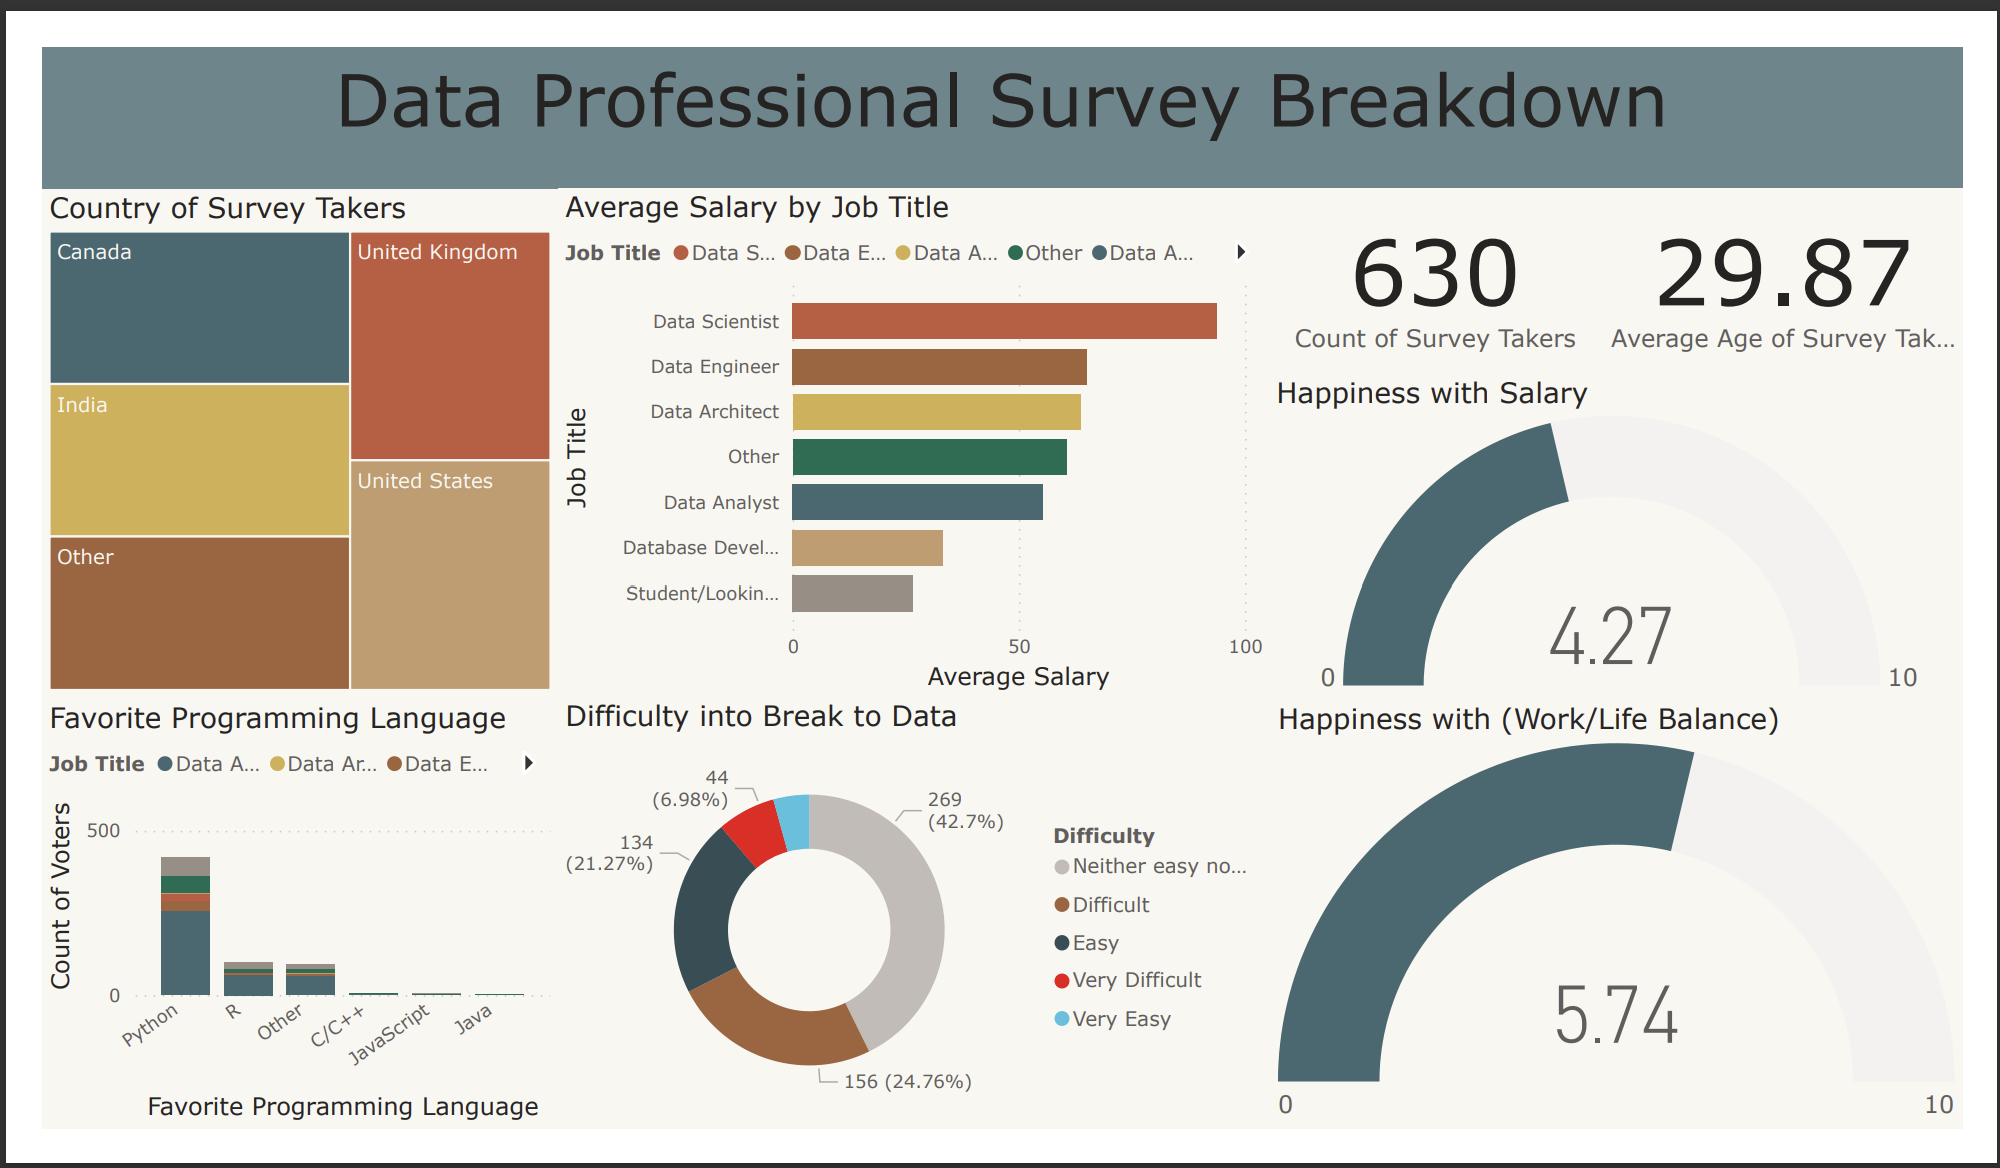

Layout of this report page (visuals, bound fields, positions):
{"tool":"powerbi","page":{"name":"Project Dasshboard","canvas":[1280,720],"ordinal":0},"visuals":[{"type":"textbox","box":[0,0,1280,93.8],"z":0},{"type":"card","fields":{"Values":["Count(Data Professional Survey.Unique ID)"]},"box":[817.9,94,222.6,123.8],"z":1000},{"type":"card","fields":{"Values":["Avg(Data Professional Survey.Q10 - Current Age)"]},"box":[1040.5,94,241.7,123.8],"z":2000},{"type":"barChart","title":"Average Salary by Job Title","fields":{"Category":["Data Professional Survey.Q1 - Which Title Best Fits your Current Role?.1"],"Y":["Avg(Data Professional Survey.Average Salary)"],"Series":["Data Professional Survey.Q1 - Which Title Best Fits your Current Role?.1"]},"box":[344,94,475,339.3],"z":3000},{"type":"columnChart","title":"Favorite Programming Language","fields":{"Category":["Data Professional Survey.Q5 - Favorite Programming Language.1"],"Y":["CountNonNull(Data Professional Survey.Unique ID)"],"Series":["Data Professional Survey.Q1 - Which Title Best Fits your Current Role?.1"]},"box":[0,433.8,343.8,286.2],"z":4000},{"type":"treemap","title":"Country of Survey Takers","fields":{"Group":["Data Professional Survey.Q11 - Which Country do you live in?.1"],"Values":["Count(Data Professional Survey.Q11 - Which Country do you live in?.1)"]},"box":[0,95.2,344,338.1],"z":5000},{"type":"gauge","title":"Happiness with Salary","fields":{"Y":["Avg(Data Professional Survey.Q6 - How Happy are you in your Current Position with the following? (Salary))"],"MinValue":["Min(Data Professional Survey.Q6 - How Happy are you in your Current Position with the following? (Salary))"],"MaxValue":["Max(Data Professional Survey.Q6 - How Happy are you in your Current Position with the following? (Salary))"]},"box":[817.9,217.9,466.7,216.7],"z":6000},{"type":"gauge","title":"Happiness with  (Work/Life Balance)","fields":{"Y":["Avg(Data Professional Survey.Q6 - How Happy are you in your Current Position with the following? (Work/Life Balance))"],"MinValue":["Min(Data Professional Survey.Q6 - How Happy are you in your Current Position with the following? (Work/Life Balance))1"],"MaxValue":["Max(Data Professional Survey.Q6 - How Happy are you in your Current Position with the following? (Work/Life Balance))2"]},"box":[819,434.5,460.7,289.3],"z":7000},{"type":"donutChart","title":"Difficulty into Break to Data","fields":{"Category":["Data Professional Survey.Q7 - How difficult was it for you to break into Data?"],"Y":["CountNonNull(Data Professional Survey.Q7 - How difficult was it for you to break into Data?)"]},"box":[344,433.3,475,286.9],"z":8000}]}

Visuals, with their boxes on the page's 1280x720 design canvas (x1, y1, x2, y2). These are canvas units, not pixel positions in the 2000x1168 screenshot, which may show the page scaled, cropped or inside an application window:
textbox: region(0, 0, 1280, 94)
card - Count(Data Professional Survey.Unique ID): region(818, 94, 1040, 218)
card - Avg(Data Professional Survey.Q10 - Current Age): region(1040, 94, 1282, 218)
"Average Salary by Job Title" barChart: region(344, 94, 819, 433)
"Favorite Programming Language" columnChart: region(0, 434, 344, 720)
"Country of Survey Takers" treemap: region(0, 95, 344, 433)
"Happiness with Salary" gauge: region(818, 218, 1285, 435)
"Happiness with  (Work/Life Balance)" gauge: region(819, 434, 1280, 724)
"Difficulty into Break to Data" donutChart: region(344, 433, 819, 720)
